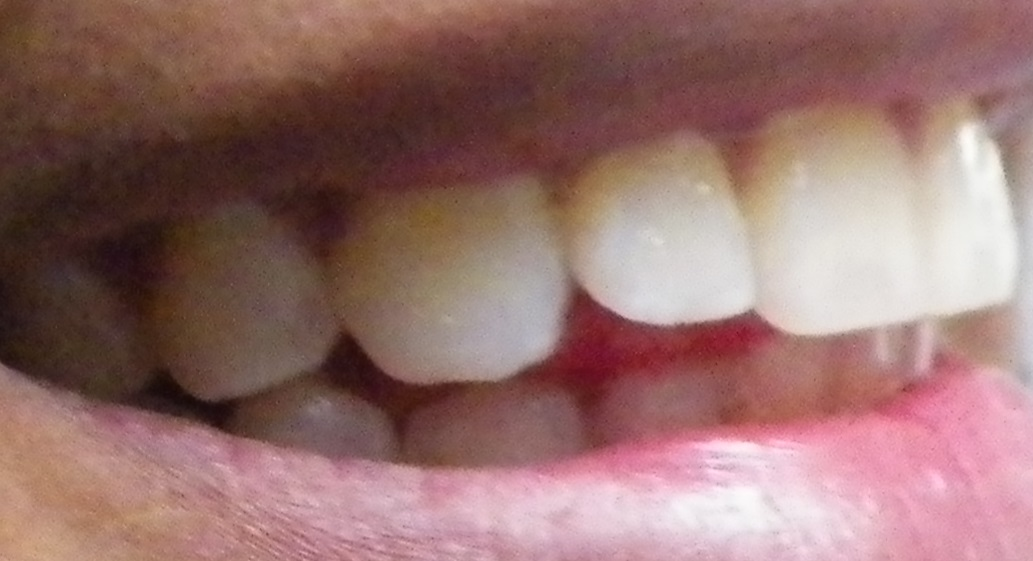boca: (4, 91, 1019, 428)
